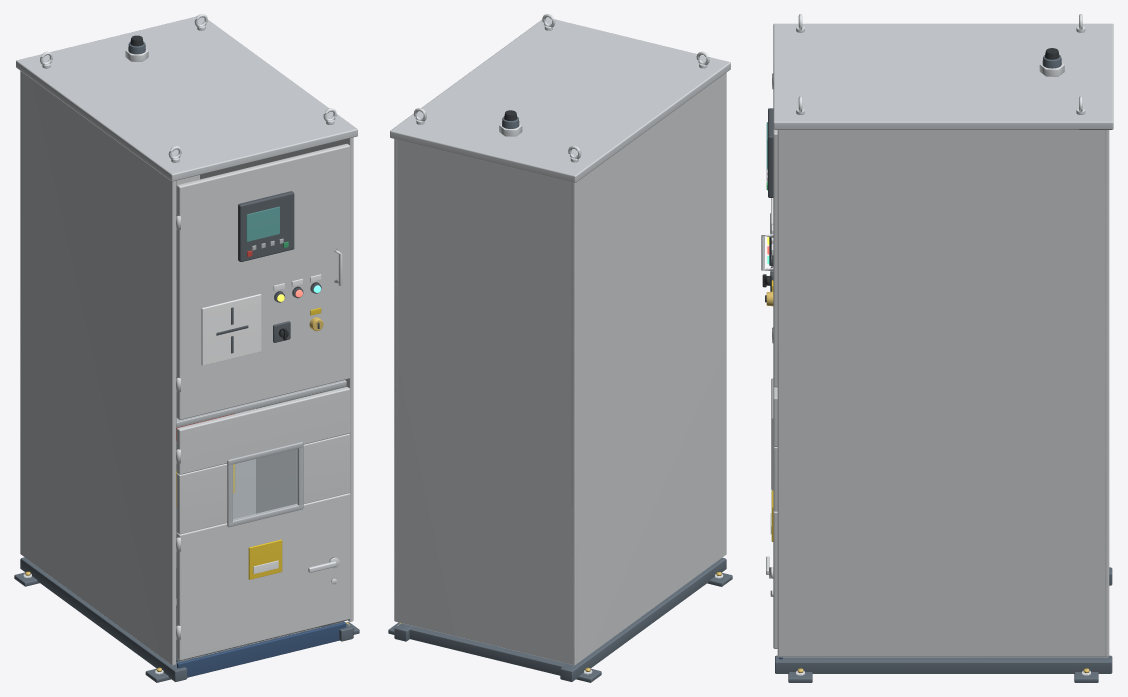
The model's file is hv-bay-enclosure.glb.
The picture shows the model from 3 angles, left to right: view 1: azimuth 30°, elevation 25°; view 2: azimuth 150°, elevation 25°; view 3: azimuth 270°, elevation 25°; orthographic projection. The views are drawn at different scales.
Parts seen in each view (by area): view 1: HvBayBody, HvLvDoor, HvBreakerDoor; view 2: HvBayBody; view 3: HvBayBody, HvLvDoor, HvBreakerDoor.
Part boxes in pixels (box(x1,y1,x2,y2)): HvBayBody: box(14, 14, 359, 682); HvLvDoor: box(176, 143, 350, 419); HvBreakerDoor: box(176, 386, 350, 660); HvBayBody: box(388, 14, 732, 682); HvBayBody: box(773, 14, 1113, 682); HvLvDoor: box(761, 73, 777, 387); HvBreakerDoor: box(766, 327, 777, 648).
Bounding box in the file's own units: 0.895 × 2.23 × 1.23.
